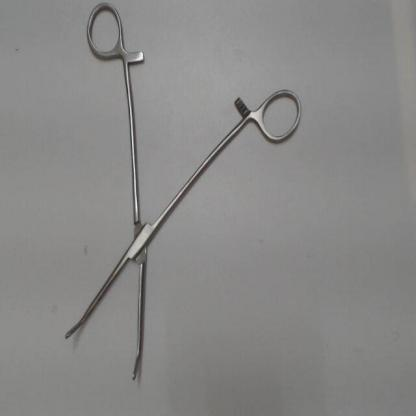Lahey Forceps: (58, 3, 314, 390)
